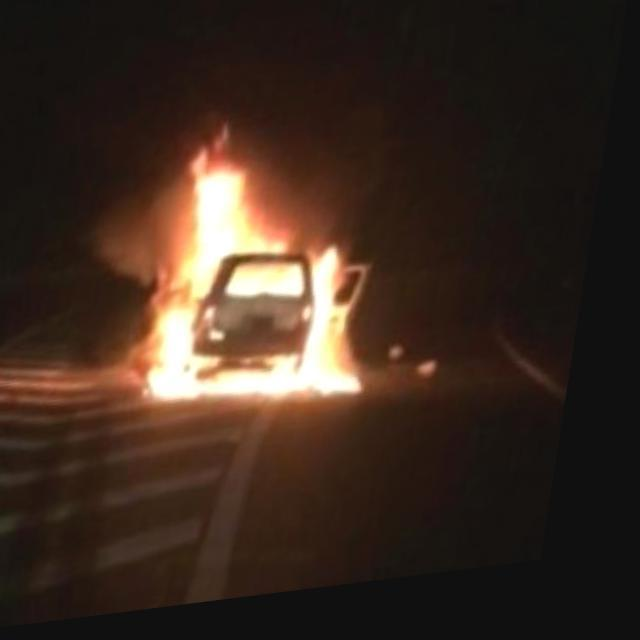Fire: (149, 118, 413, 432)
